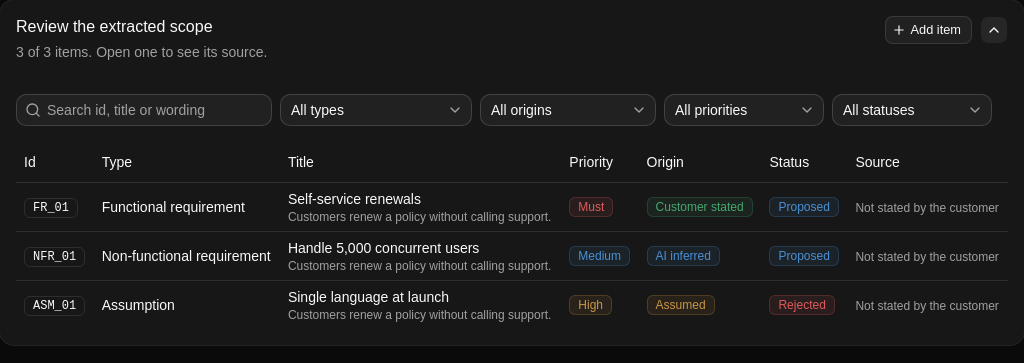
ScopeReview › filters by free text across ids and titles
This screenshot has width=1024, height=363.
Type "concurrent" into the field named "Search the scope" at (156, 110), box [41,94,271,126]
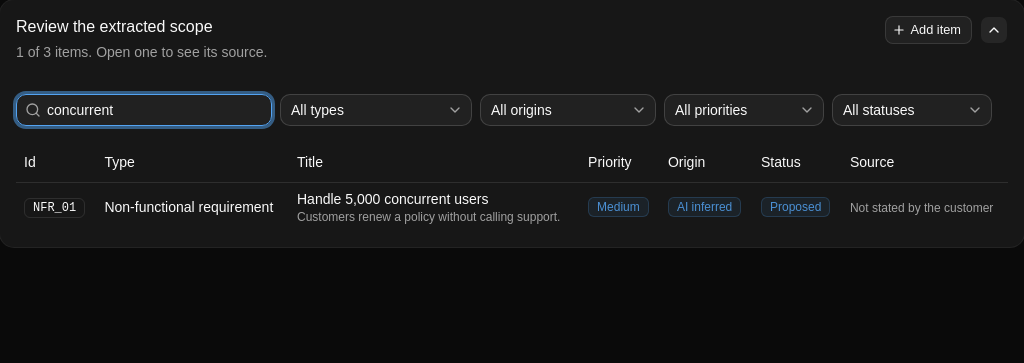
Check: the text "NFR_01" is shown, box [24,198,85,218]
Check: the button "ASM_01" is gone
